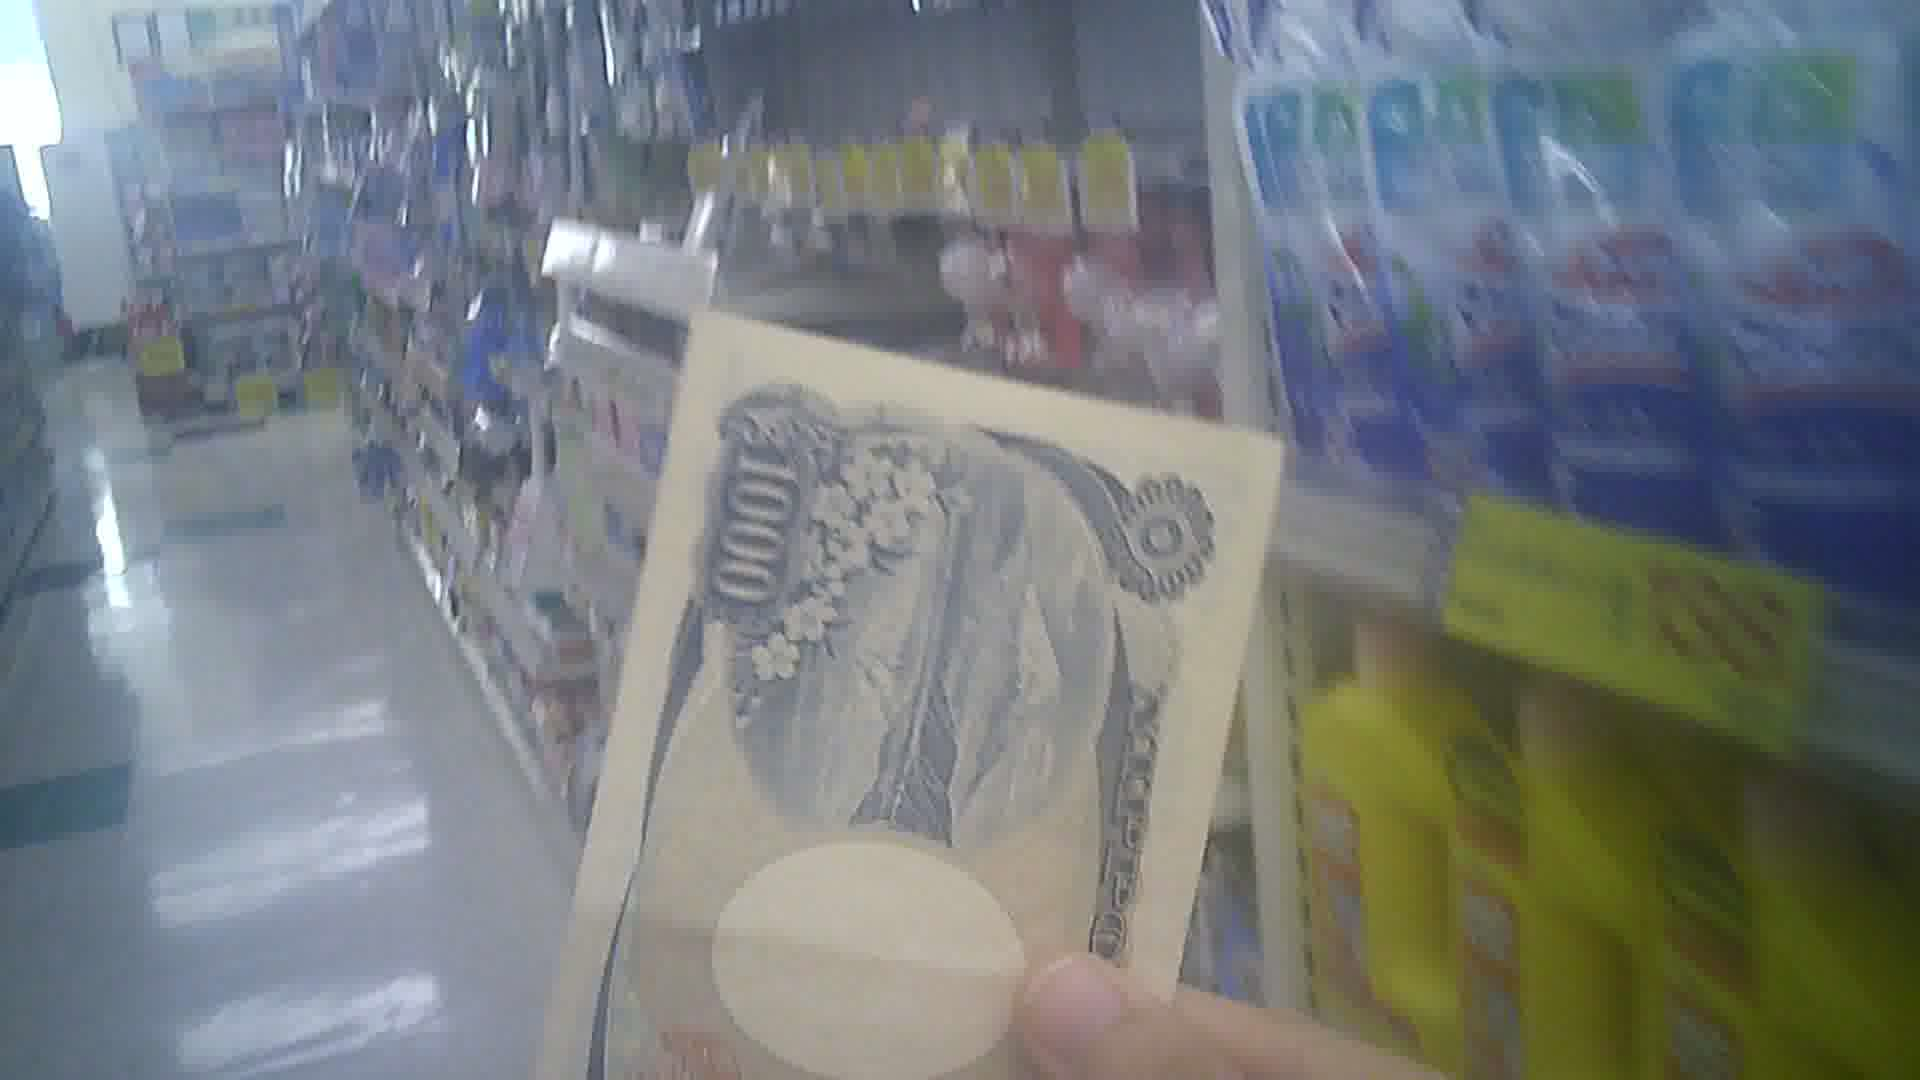1,000 Yen: (555, 291, 1246, 1079)
